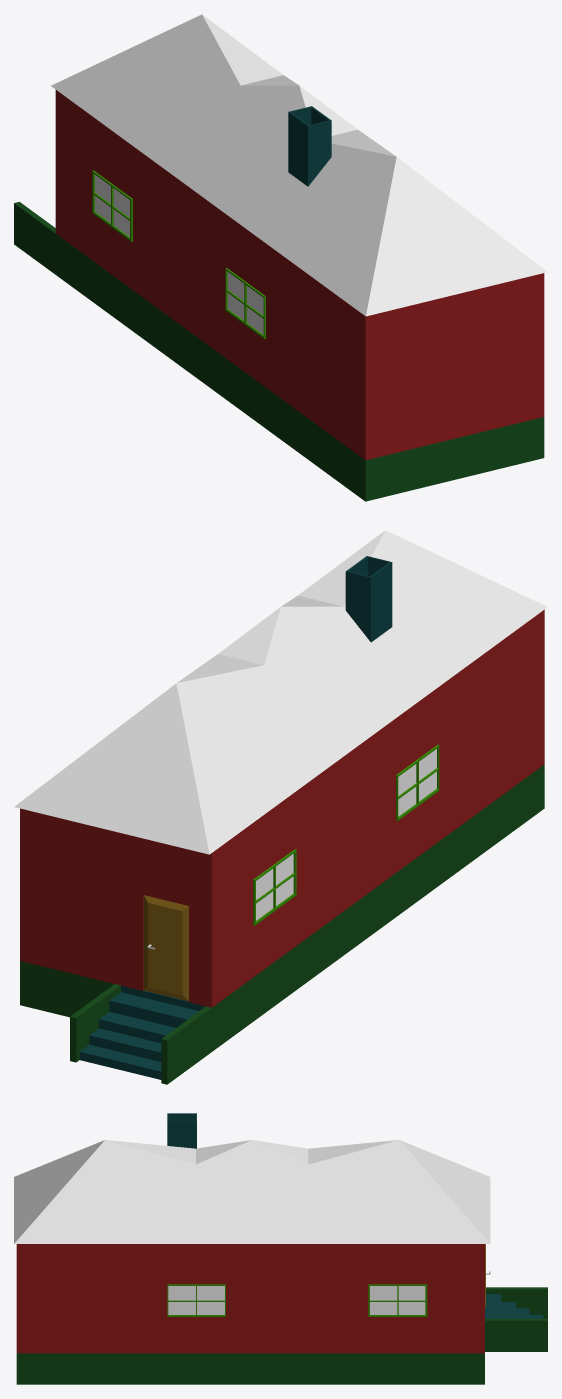
The model's file is dom03.FBX.
3 renders of one model, top to bottom at view 1: azimuth 30°, elevation 25°; view 2: azimuth 150°, elevation 25°; view 3: azimuth 270°, elevation 25°, orthographic. The views are drawn at different scales.
Parts seen in each view (by area): view 1: Box001, Pyramid002; view 2: Box001, Pyramid002; view 3: Box001, Pyramid002.
Part boxes in pixels (<box>): Box001: <box>14,90,544,501</box>; Pyramid002: <box>51,14,547,316</box>; Box001: <box>20,556,544,1084</box>; Pyramid002: <box>14,530,547,854</box>; Box001: <box>16,1113,547,1384</box>; Pyramid002: <box>14,1140,490,1243</box>.
Bounding box in the file's own units: 204 × 312 × 684.
